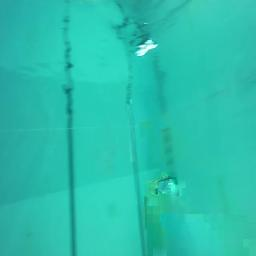Full: (148, 176, 178, 198)
